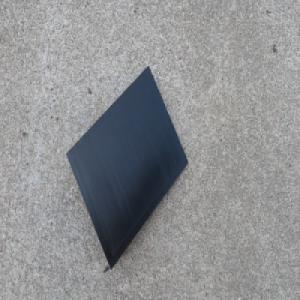PlasticPart: (64, 63, 188, 272)
